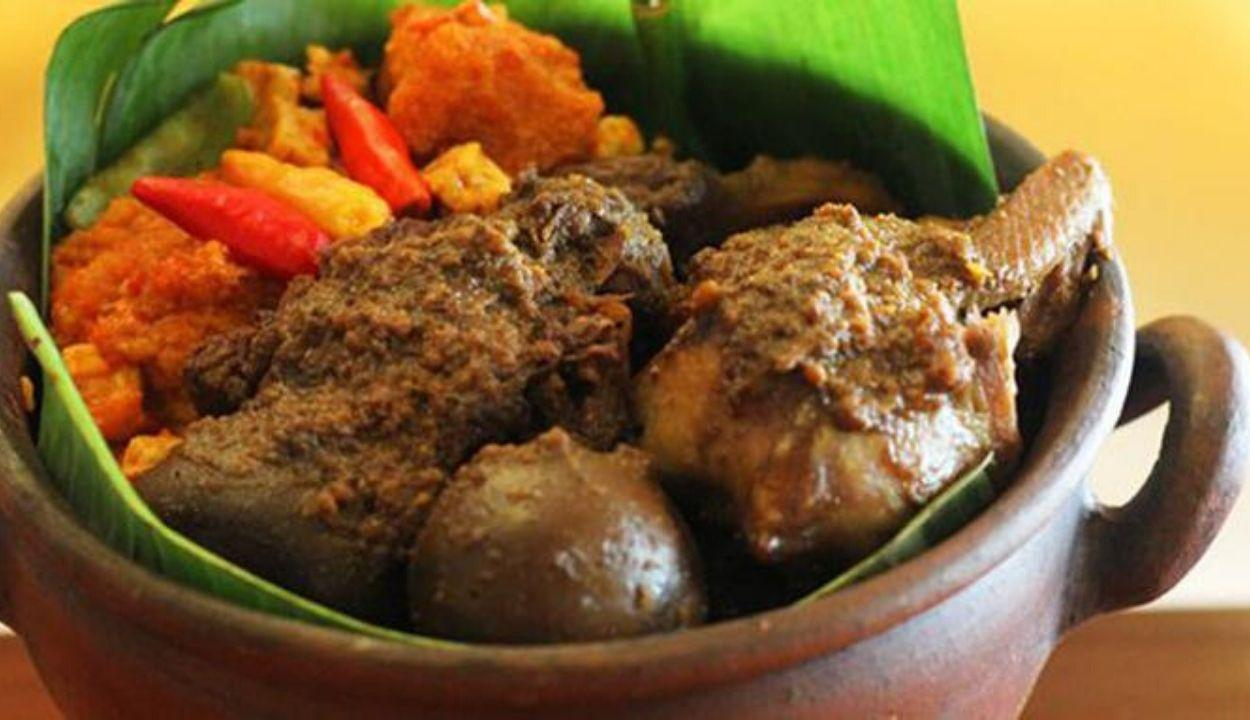gudeg: (72, 8, 1116, 637)
